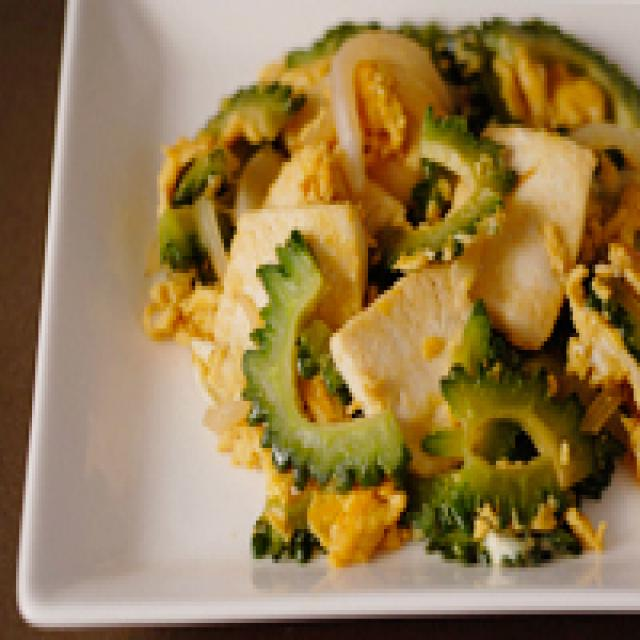熟制海鲜: (6, 0, 640, 623)
